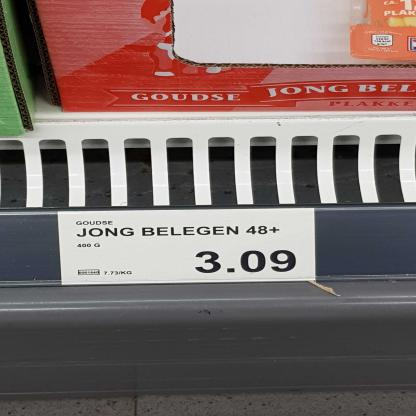prtg: (59, 209, 316, 285)
